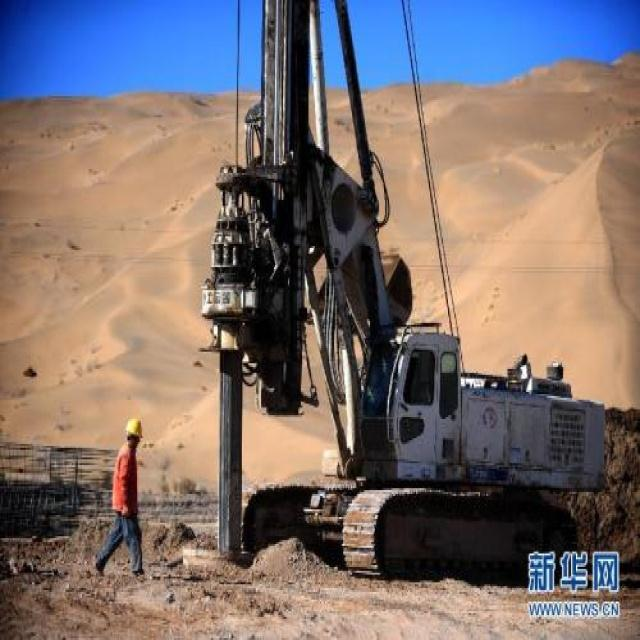helmet: (122, 546, 149, 602)
